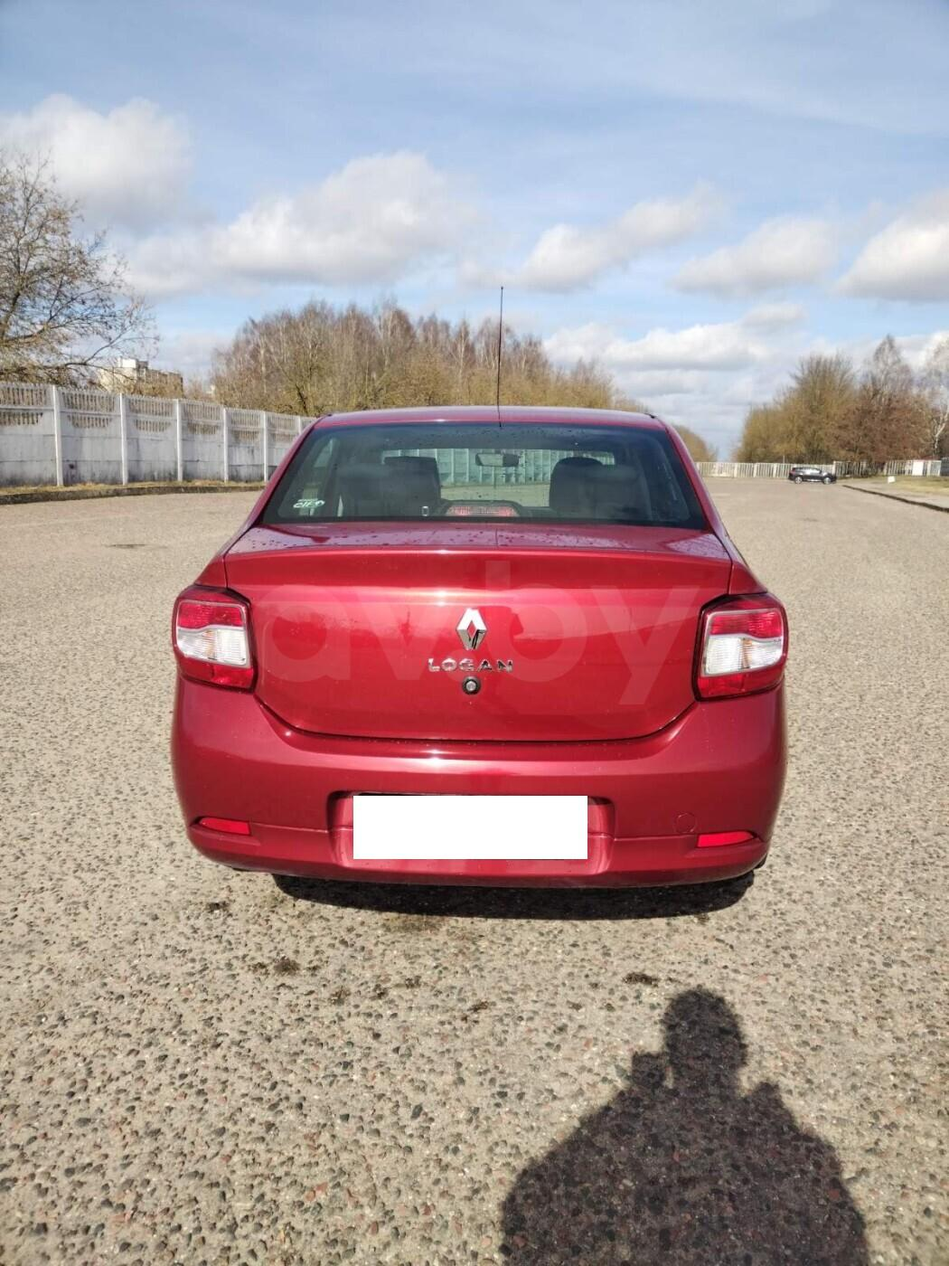Logan_2018: (152, 403, 801, 931)
